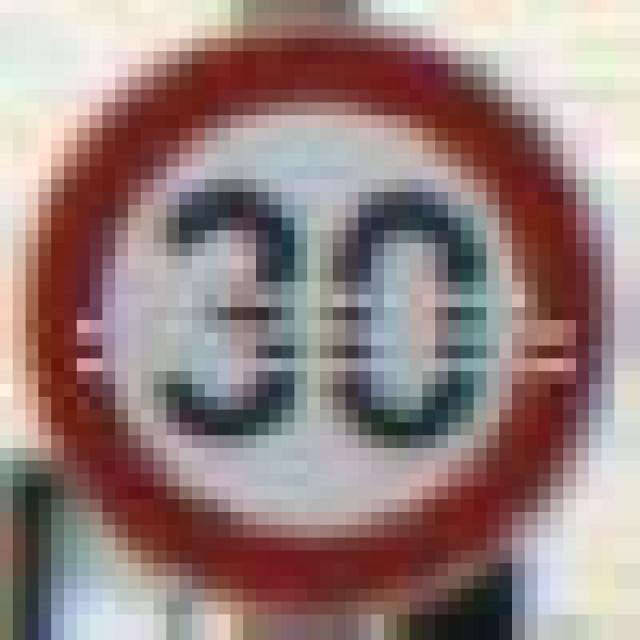SPEED_LIMIT_30: (0, 12, 602, 602)
